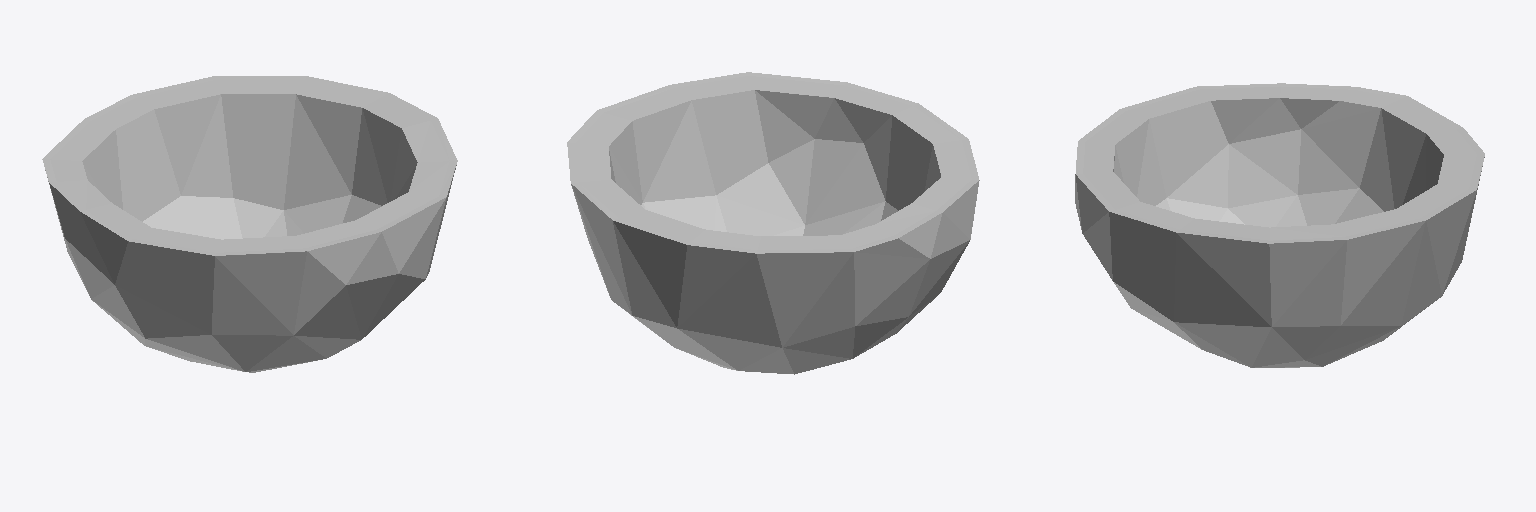
Rendered from coconut.obj.
3 views of the same model, side by side, from view 1: azimuth 30°, elevation 25°; view 2: azimuth 150°, elevation 25°; view 3: azimuth 270°, elevation 25° (orthographic).
Size of the model in its own units: 0.917 by 0.4883 by 0.9223.